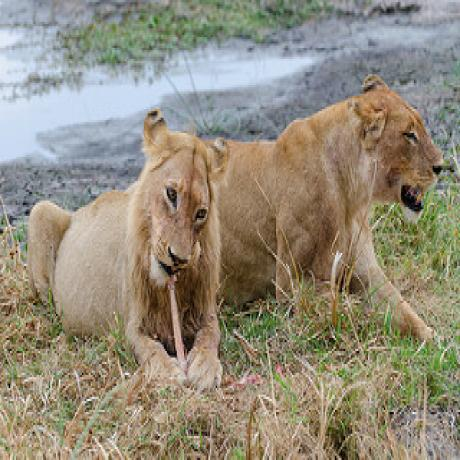Lion: (205, 76, 444, 344), (23, 108, 224, 389)
